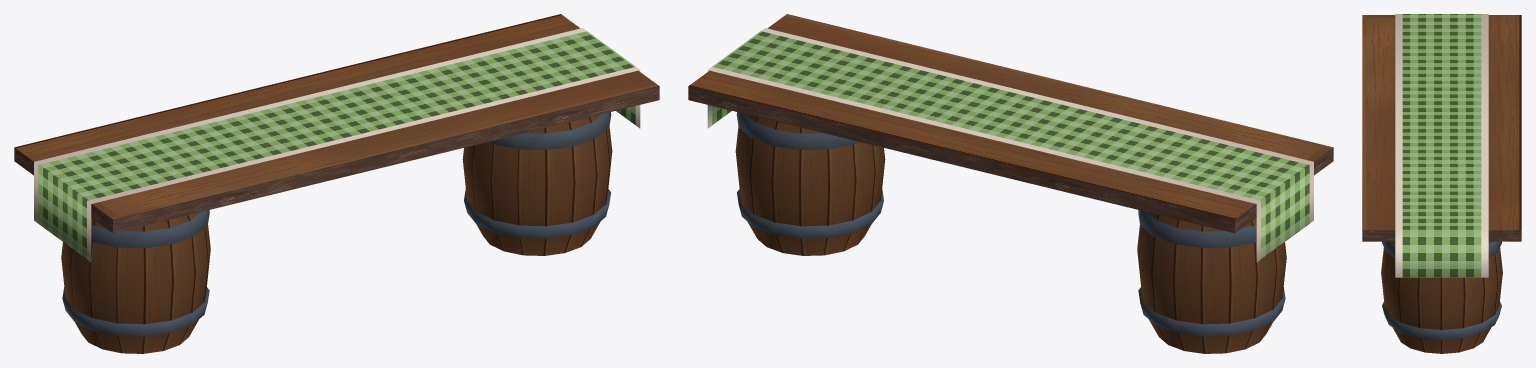
Rendered from table-dessert.glb.
The picture shows the model from 3 angles, left to right: view 1: azimuth 30°, elevation 25°; view 2: azimuth 150°, elevation 25°; view 3: azimuth 270°, elevation 25°; orthographic projection. The views are drawn at different scales.
Parts seen in each view (by area): view 1: Table_Dessert; view 2: Table_Dessert; view 3: Table_Dessert.
Part boxes in pixels (bbox=[...]): Table_Dessert: bbox=[14, 14, 659, 353]; Table_Dessert: bbox=[688, 14, 1333, 353]; Table_Dessert: bbox=[1362, 14, 1521, 353].
Size of what is drawn, in the model's own units: 3.17 by 0.9148 by 0.986.
Materials: 4 (4 with a texture image).
